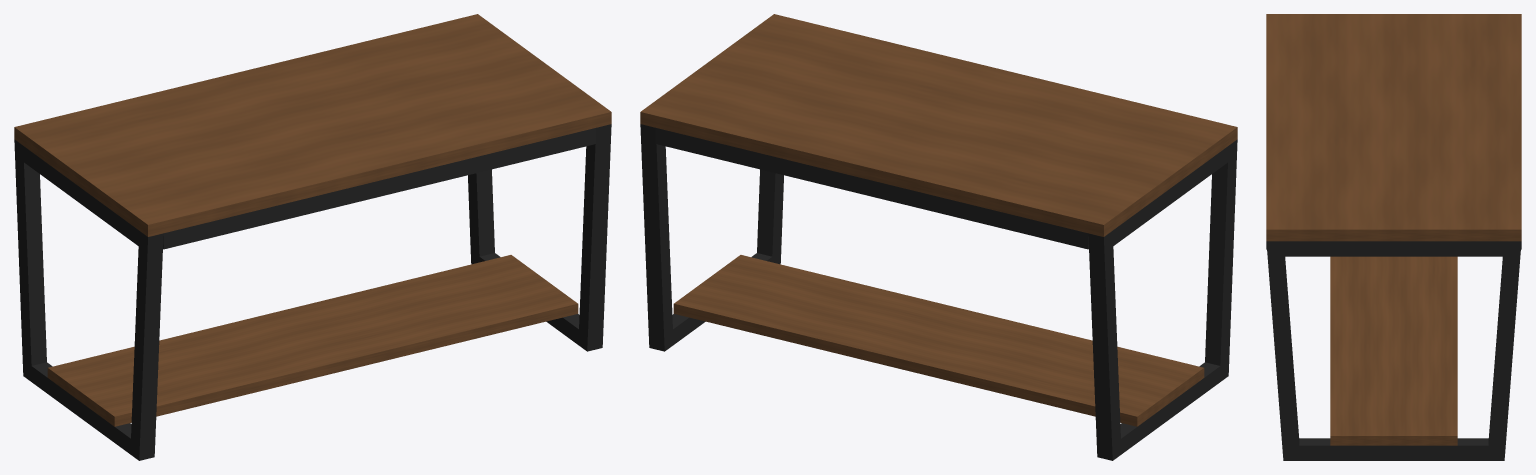
File: mesa-living-nord-estante-nogal-negro-4cm.glb
The picture shows the model from 3 angles, left to right: view 1: azimuth 30°, elevation 25°; view 2: azimuth 150°, elevation 25°; view 3: azimuth 270°, elevation 25°; orthographic projection. The views are drawn at different scales.
Parts seen in each view (by area): view 1: Tapa de madera maciza 120 x 60 x 3 cm, Estante inferior de madera de 120 cm (proporción aproximada), Patas inclinadas con cortes a inglete, Larguero longitudinal superior de hierro 4 x 4 mm, Travesaño inferior del trapecio, perfil 4 cm (×2), Travesaño superior del trapecio, perfil 4 cm; view 2: Tapa de madera maciza 120 x 60 x 3 cm, Estante inferior de madera de 120 cm (proporción aproximada), Patas inclinadas con cortes a inglete, Larguero longitudinal superior de hierro 4 x 4 mm, Travesaño inferior del trapecio, perfil 4 cm (×2), Travesaño superior del trapecio, perfil 4 cm; view 3: Tapa de madera maciza 120 x 60 x 3 cm, Estante inferior de madera de 120 cm (proporción aproximada), Patas inclinadas con cortes a inglete, Travesaño superior del trapecio, perfil 4 cm, Travesaño inferior del trapecio, perfil 4 cm.
Part boxes in pixels (<box>): Tapa de madera maciza 120 x 60 x 3 cm: <box>14,14,611,236</box>; Estante inferior de madera de 120 cm (proporción aproximada): <box>47,255,578,426</box>; Patas inclinadas con cortes a inglete: <box>14,124,611,460</box>; Larguero longitudinal superior de hierro 4 x 4 mm: <box>163,128,596,249</box>; Travesaño inferior del trapecio, perfil 4 cm (×2): <box>31,253,582,453</box>; Travesaño superior del trapecio, perfil 4 cm: <box>23,146,142,246</box>; Tapa de madera maciza 120 x 60 x 3 cm: <box>640,14,1237,236</box>; Estante inferior de madera de 120 cm (proporción aproximada): <box>673,255,1204,426</box>; Patas inclinadas con cortes a inglete: <box>640,124,1237,460</box>; Larguero longitudinal superior de hierro 4 x 4 mm: <box>655,128,1088,249</box>; Travesaño inferior del trapecio, perfil 4 cm (×2): <box>669,253,1224,453</box>; Travesaño superior del trapecio, perfil 4 cm: <box>1108,146,1228,249</box>; Tapa de madera maciza 120 x 60 x 3 cm: <box>1266,14,1521,241</box>; Estante inferior de madera de 120 cm (proporción aproximada): <box>1330,256,1457,445</box>; Patas inclinadas con cortes a inglete: <box>1266,241,1521,460</box>; Travesaño superior del trapecio, perfil 4 cm: <box>1275,241,1512,256</box>; Travesaño inferior del trapecio, perfil 4 cm: <box>1292,438,1495,460</box>.
Bounding box in the file's own units: 1.2 × 0.6 × 0.6.
Materials: 2 (1 with a texture image).
